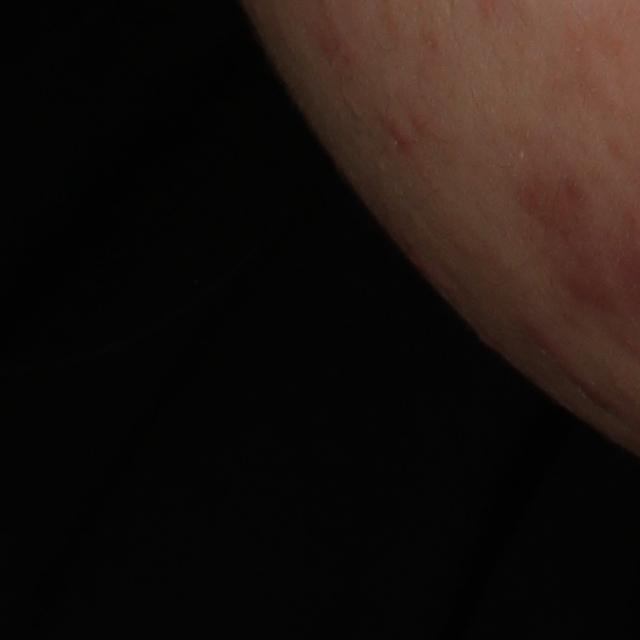papule: (391, 123, 413, 148)
